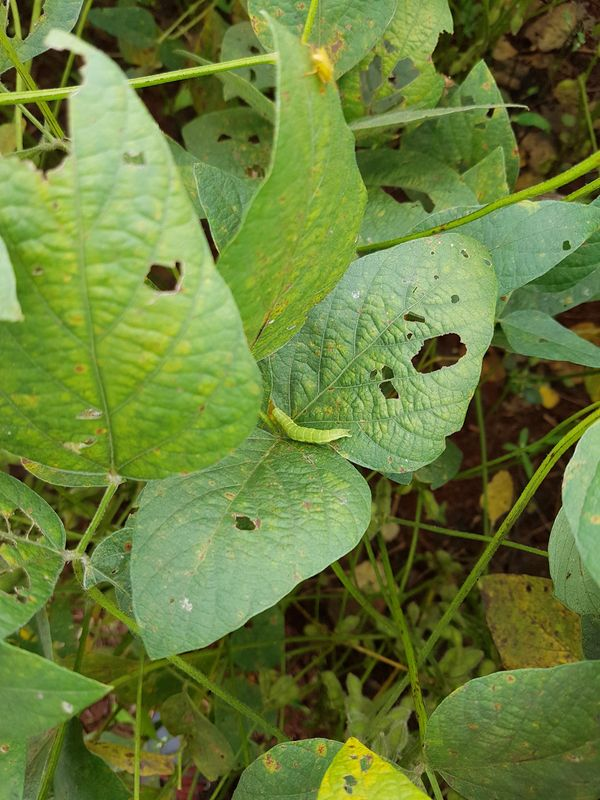Anticarsia_gemmatalis: (250, 391, 360, 464)
Euschistus_heros_ninfa: (283, 26, 357, 97)
